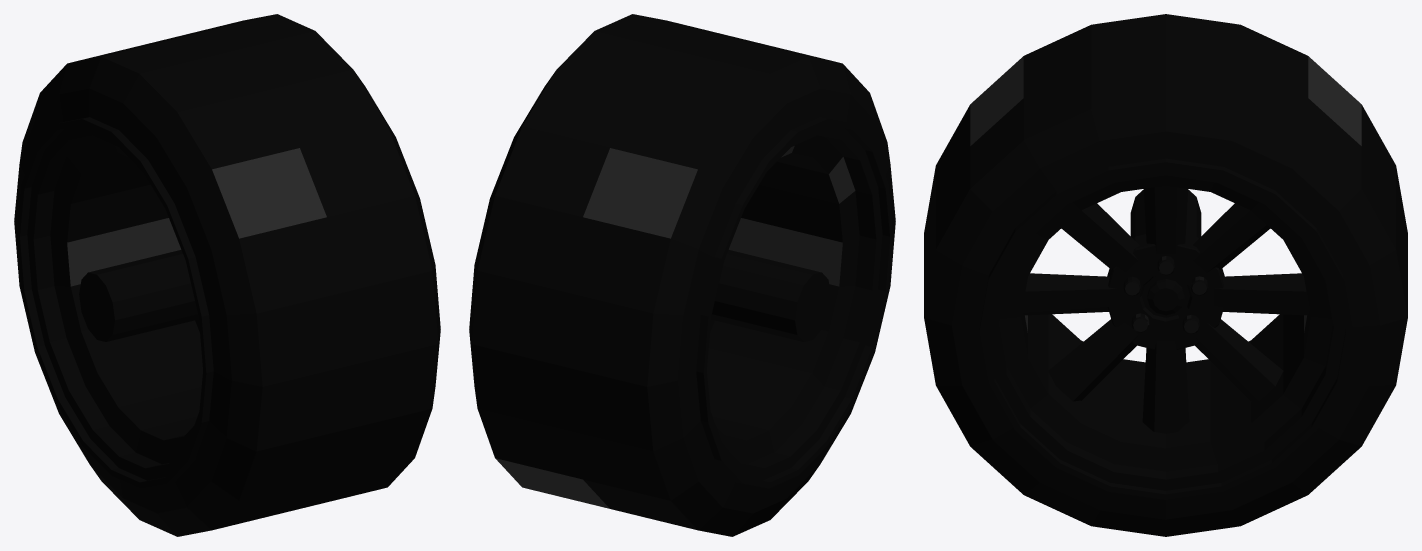
The model's file is leftFrontWheel.glb.
The picture shows the model from 3 angles, left to right: view 1: azimuth 30°, elevation 25°; view 2: azimuth 150°, elevation 25°; view 3: azimuth 270°, elevation 25°; orthographic projection.
Parts seen in each view (by area): view 1: Cylinder_0_Baked; view 2: Cylinder_0_Baked; view 3: Cylinder_0_Baked, Circle_0_Baked, Cylinder.001_0_Baked.
Boxes of the visible parts, x1,y1,x2,y2 form: Cylinder_0_Baked: (14, 14, 440, 536); Cylinder_0_Baked: (469, 14, 895, 536); Cylinder_0_Baked: (924, 14, 1407, 536); Circle_0_Baked: (1022, 185, 1309, 433); Cylinder.001_0_Baked: (1123, 256, 1208, 333).
Bounding box in the file's own units: 1.52 × 2.63 × 2.63.
1 material, 1 textured.
